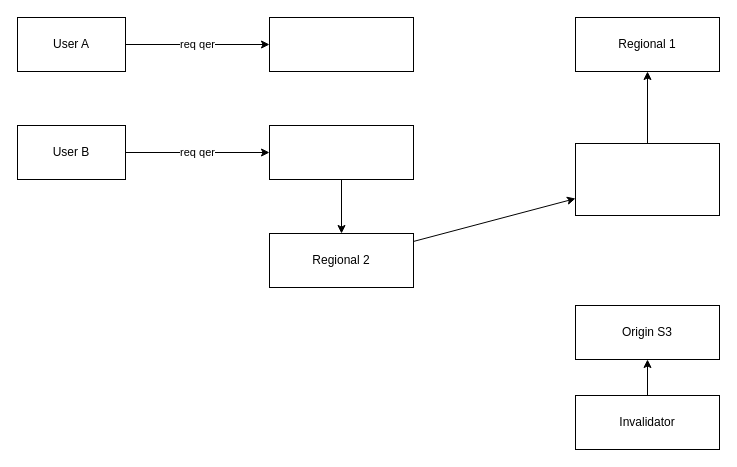
The diagram is 737 pixels wide and 467 high, and some of its shapes have lost their labels. The centre of each missing label's shape, as x and y in pixels:
"Origin Shield" goes at point (647, 179).
"PoP Edge 1" goes at point (341, 44).
"PoP Edge 2" goes at point (341, 152).
